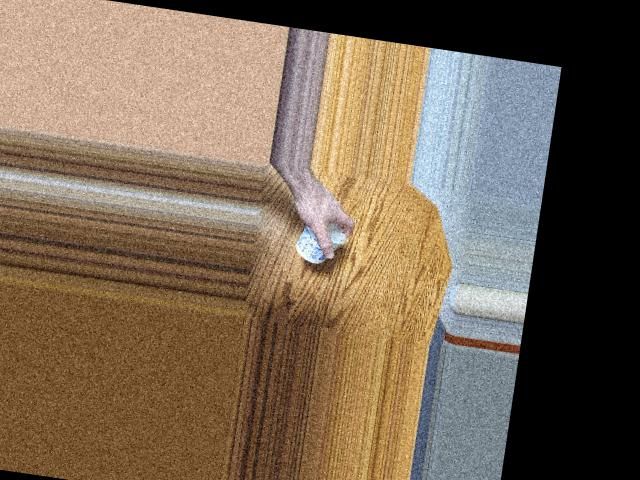cotage: (288, 218, 350, 269)
